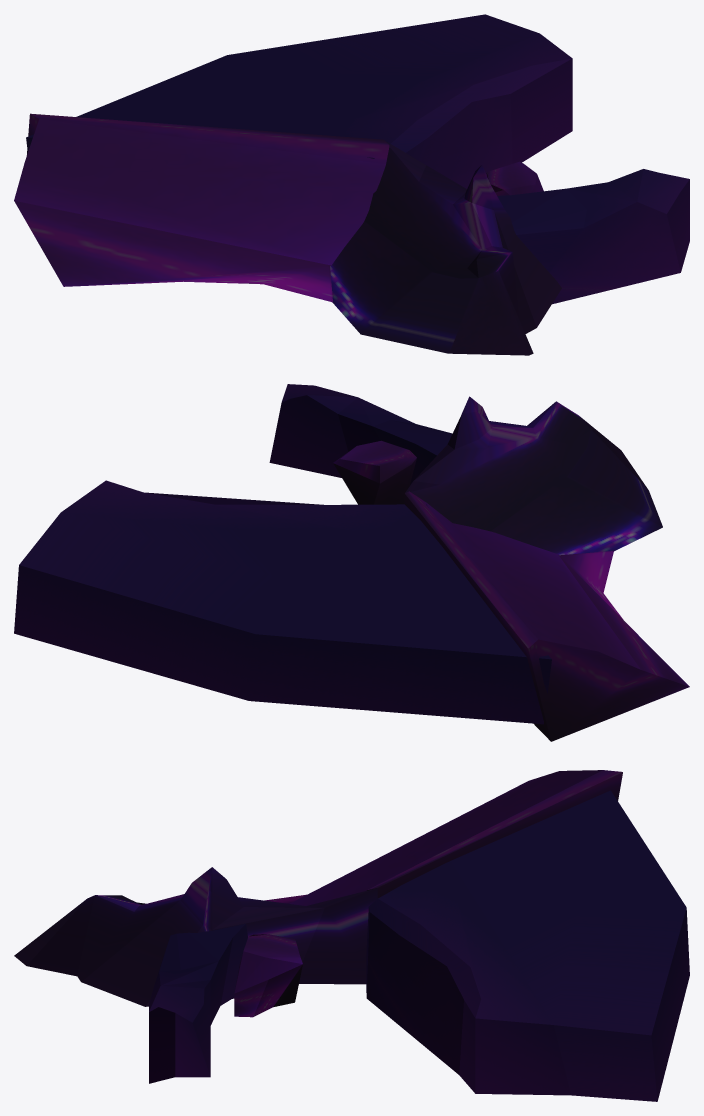
File: sb-eco.glb
3 renders of one model, top to bottom at view 1: azimuth 30°, elevation 25°; view 2: azimuth 150°, elevation 25°; view 3: azimuth 270°, elevation 25°, orthographic. The views are drawn at different scales.
Parts seen in each view (by area): view 1: Sidewall2, Sidewall3, Sidewall1, Ramp1, Pillar1; view 2: Sidewall3, Sidewall2, Sidewall1, Ramp1, Pillar1; view 3: Sidewall3, Sidewall1, Sidewall2, Ramp1, Pillar1.
Part boxes in pixels (<box>): Sidewall2: <box>14,113,389,302</box>; Sidewall3: <box>26,14,572,188</box>; Sidewall1: <box>330,141,561,355</box>; Ramp1: <box>497,169,689,304</box>; Pillar1: <box>486,161,543,195</box>; Sidewall3: <box>14,480,551,724</box>; Sidewall2: <box>404,491,689,741</box>; Sidewall1: <box>405,396,662,555</box>; Ramp1: <box>269,384,452,485</box>; Pillar1: <box>333,440,416,504</box>; Sidewall3: <box>366,790,689,1101</box>; Sidewall1: <box>14,867,377,1006</box>; Sidewall2: <box>264,770,622,905</box>; Ramp1: <box>149,924,247,1083</box>; Pillar1: <box>234,934,302,1017</box>.
Size of the model in its own units: 181 by 41.07 by 190.
Materials: 3 (3 with a texture image).
